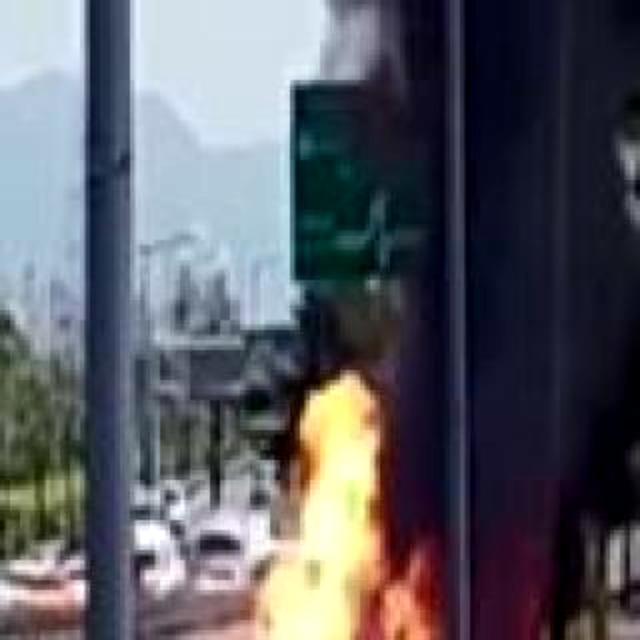fire: (253, 370, 440, 640)
smoke: (335, 0, 640, 640)
